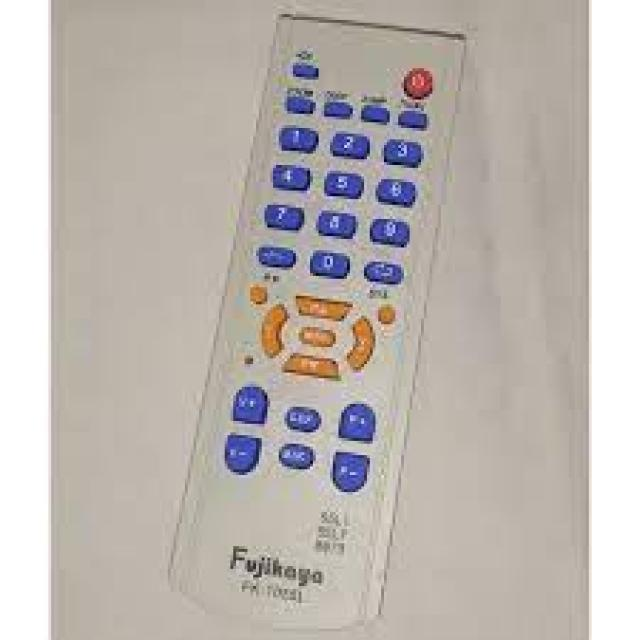remote: (169, 12, 475, 633)
